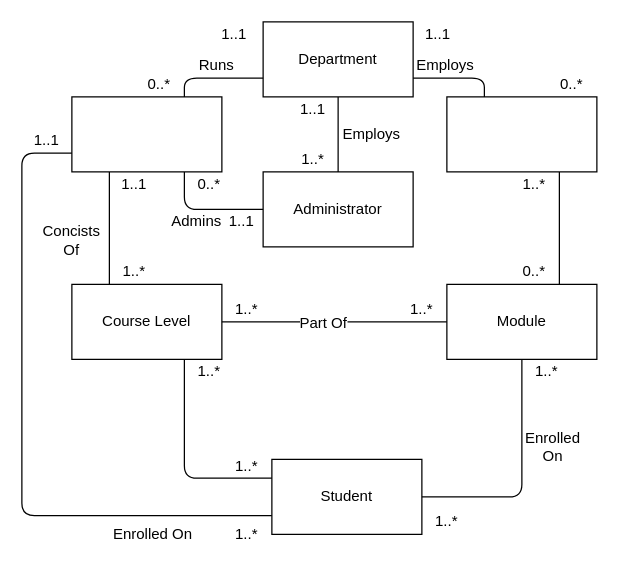
Some shapes in this 619 by 569 pixel diagram are drawn without their labels. Here are the shapes that lost their labels. From the top down, the centre of each, then its label:
At pixel 146 134: "Course".
At pixel 521 134: "Lecturer".
